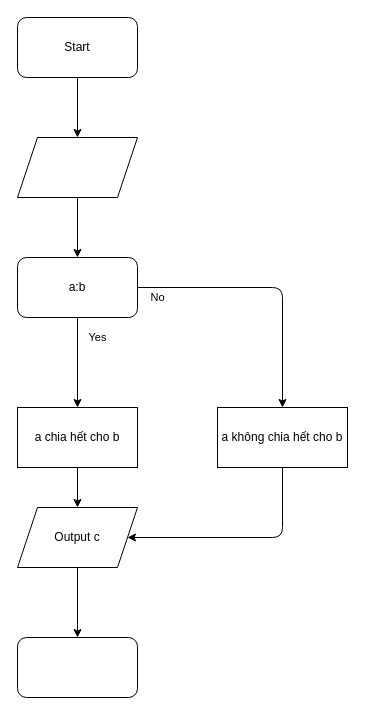
The diagram is 365 pixels wide and 715 high, and some of its shapes have lost their labels. Here are the shapes that lost their labels. From the top down, the centre of each, then its label:
At (77,167): "Input a,b,c".
At (77,667): "End".
